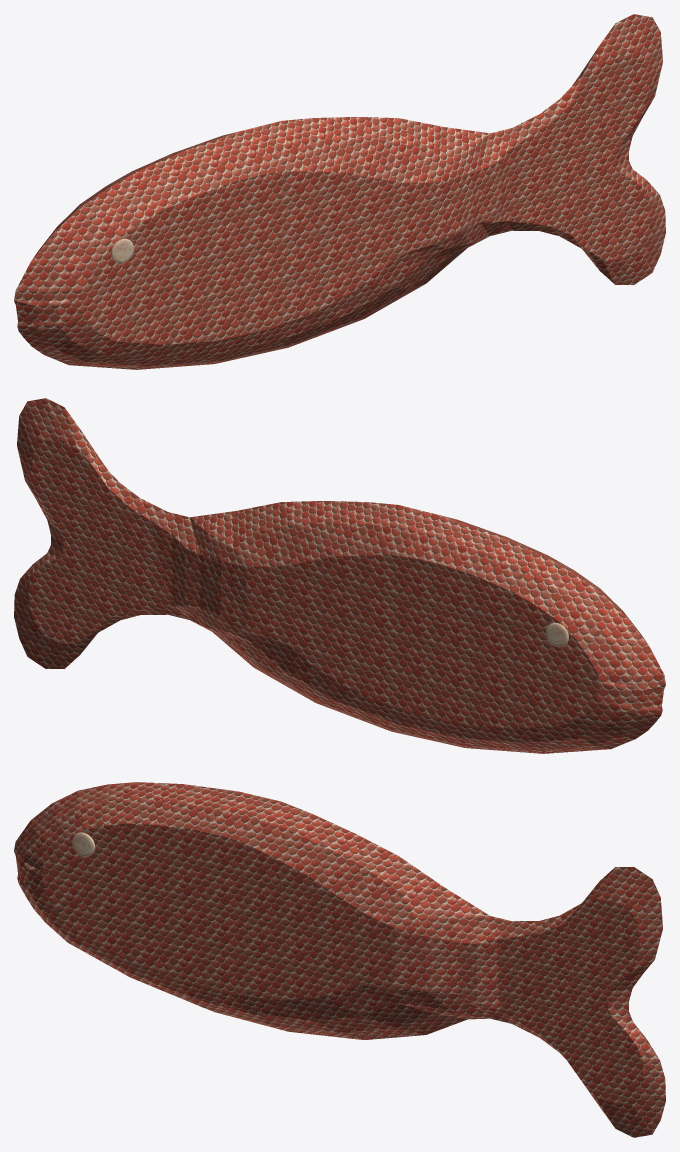
File: fisch.obj
3 renders of one model, top to bottom at view 1: azimuth 30°, elevation 25°; view 2: azimuth 150°, elevation 25°; view 3: azimuth 330°, elevation 25°, orthographic.
Parts seen in each view (by area): view 1: Fisch_Plane.001; view 2: Fisch_Plane.001; view 3: Fisch_Plane.001.
Part boxes in pixels (x1,y1,x2,y2): Fisch_Plane.001: (14,14,665,369); Fisch_Plane.001: (14,398,665,753); Fisch_Plane.001: (14,782,665,1137).
Bounding box in the file's own units: 2.77 × 1.1 × 0.3048.
